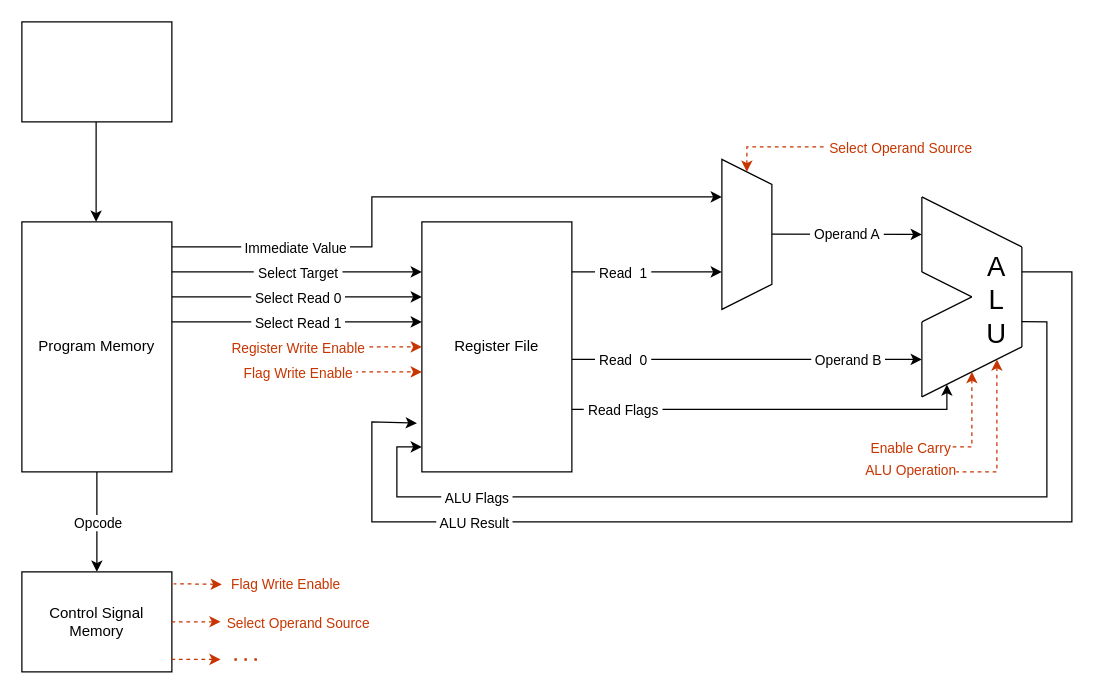
Some shapes in this 1104 by 694 pixel diagram are drawn without their labels. Each missing label, with the centre of its shape:
"MUX" goes at point (746, 233).
"Program Counter" goes at point (96, 71).
